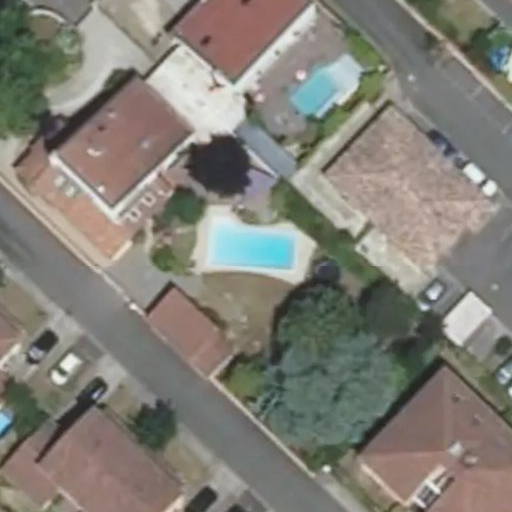pool: (211, 222, 294, 271), (292, 72, 338, 117)
